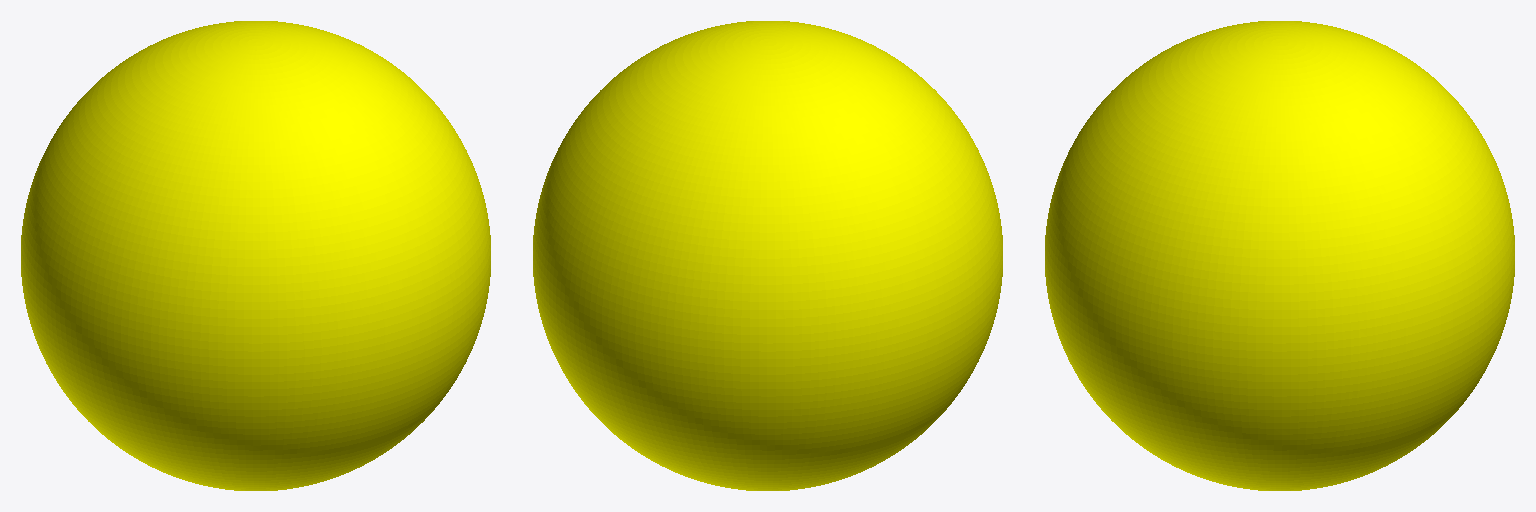
Rendered from semaphore_yellow.obj.
3 views of the same model, side by side, from view 1: azimuth 30°, elevation 25°; view 2: azimuth 150°, elevation 25°; view 3: azimuth 270°, elevation 25° (orthographic).
Visible parts, largest first — view 1: tkSemaphore_Yellow; view 2: tkSemaphore_Yellow; view 3: tkSemaphore_Yellow.
Part boxes in pixels (bbox=[...]): tkSemaphore_Yellow: bbox=[21, 21, 490, 490]; tkSemaphore_Yellow: bbox=[533, 21, 1002, 490]; tkSemaphore_Yellow: bbox=[1045, 21, 1514, 490].
Bounding box in the file's own units: 0.2 × 0.2 × 0.1999.